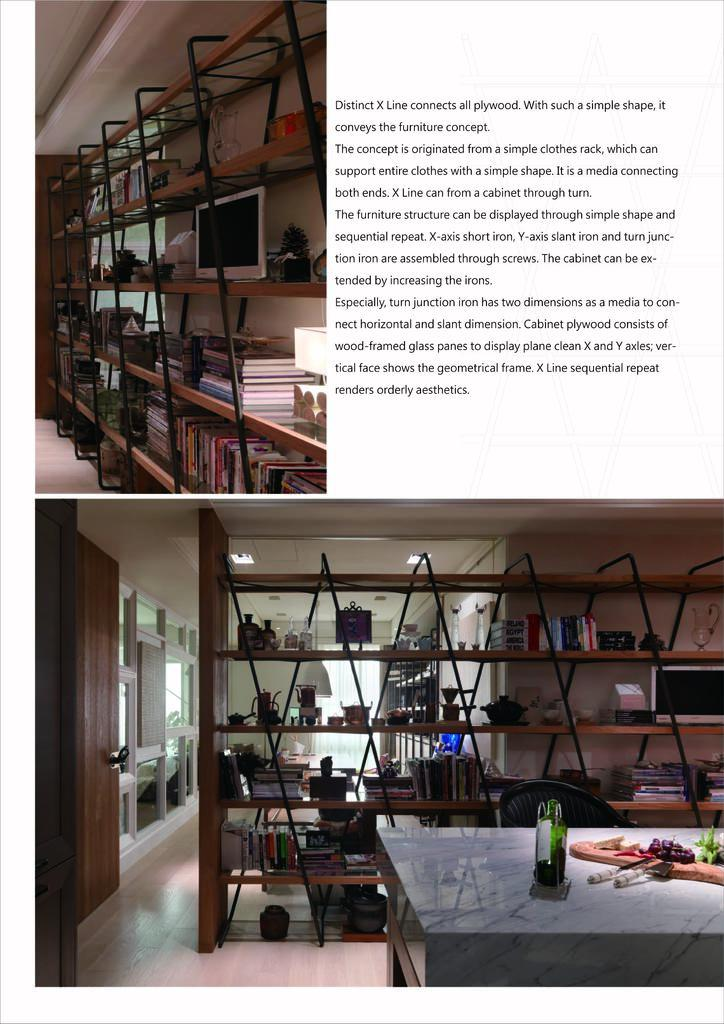Chair: (498, 778, 637, 828)
Computer-monitor: (191, 184, 267, 281), (649, 663, 723, 726)
